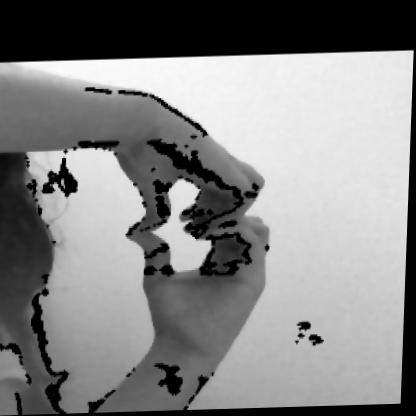heart: (97, 80, 290, 384)
